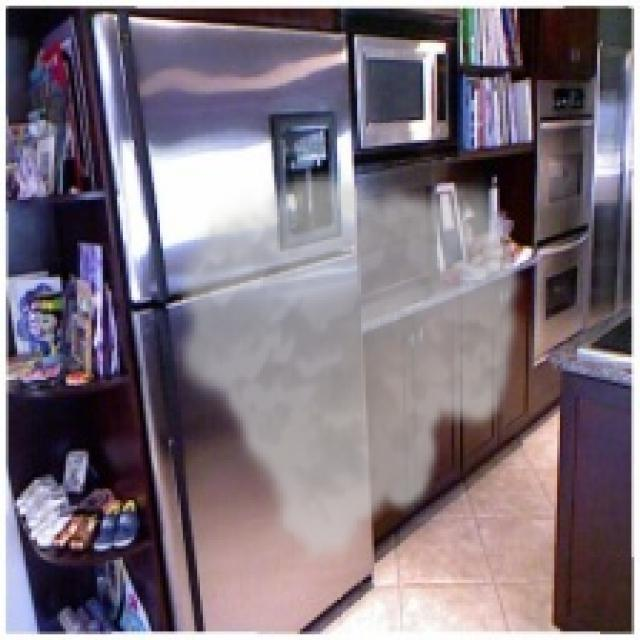Smoke: (166, 166, 528, 568)
